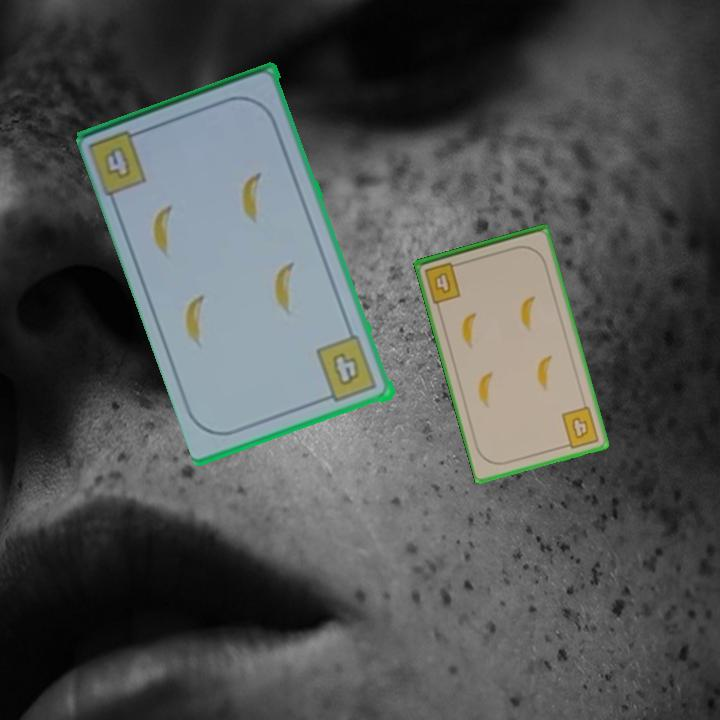4b: (313, 333, 381, 406), (87, 125, 151, 199), (558, 403, 602, 451), (421, 258, 465, 306)
